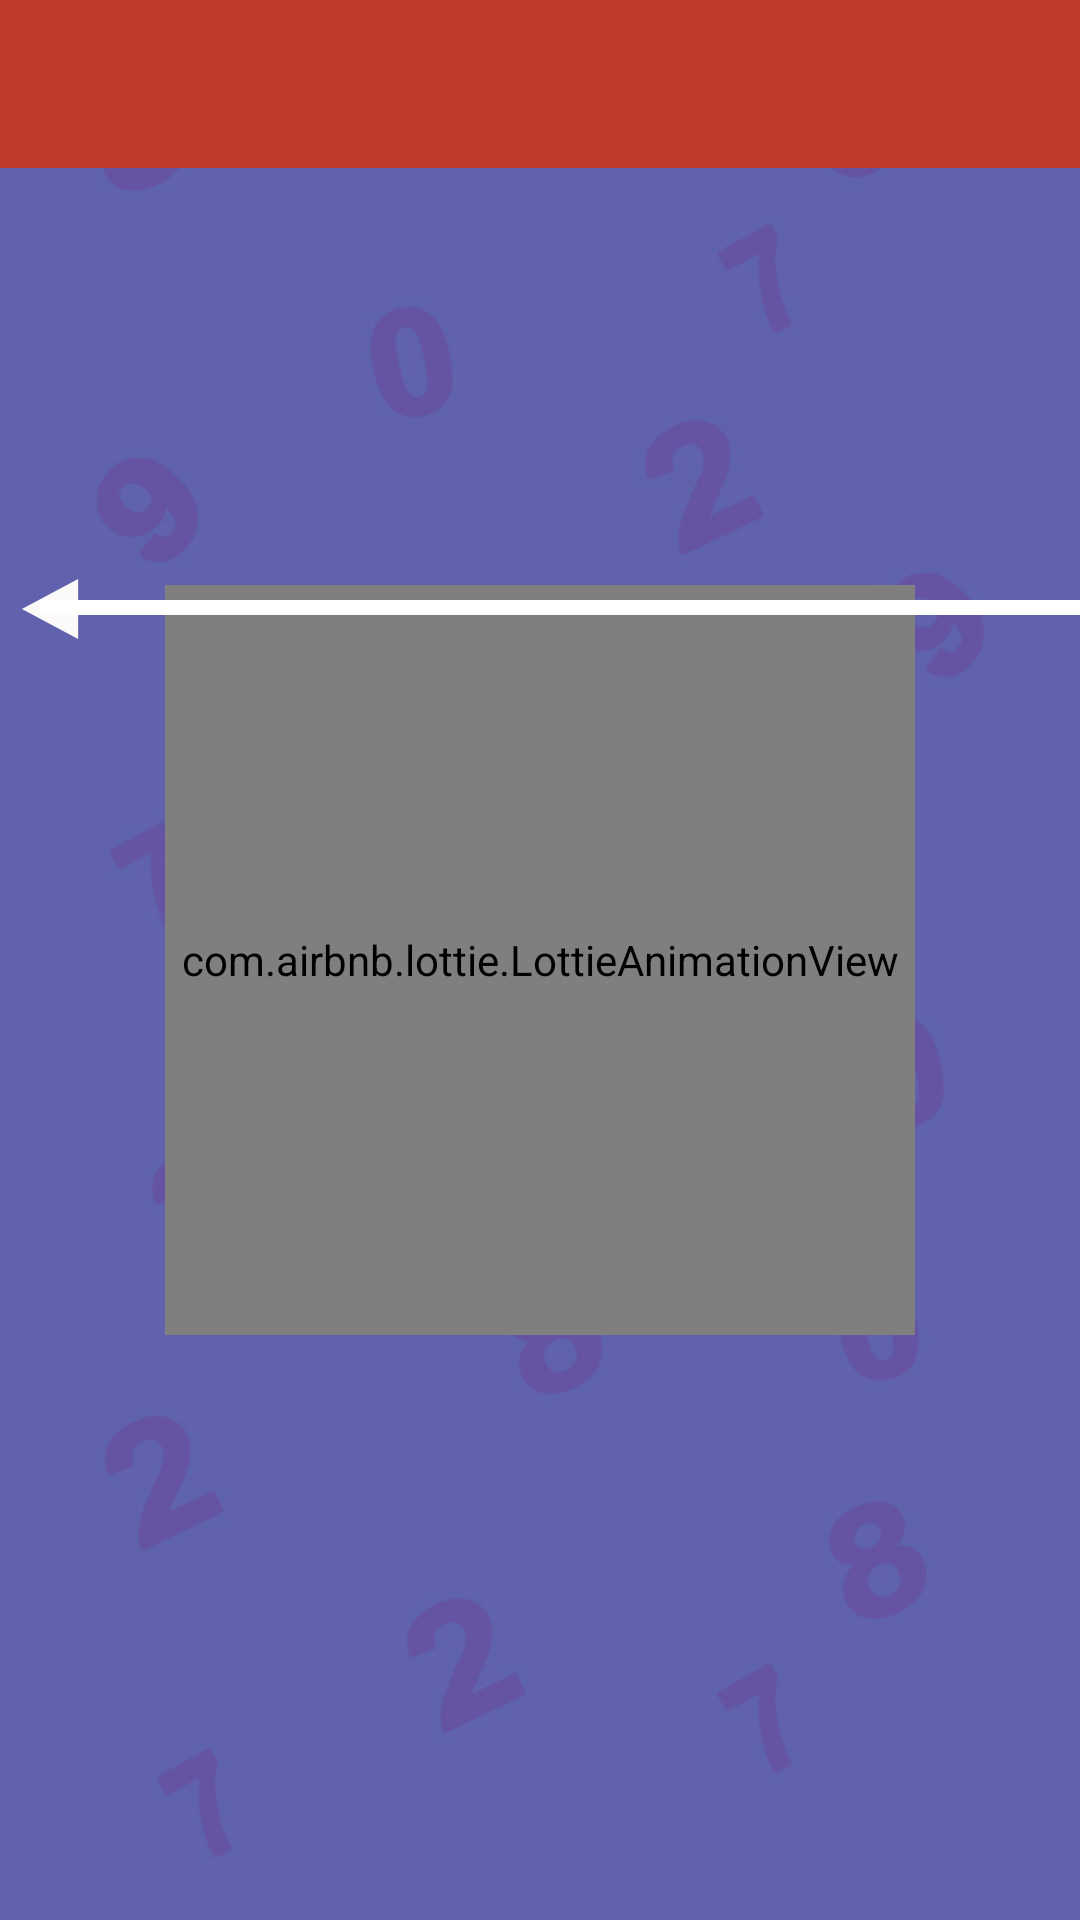

Icons on this 1080w x 1920h Android screen, each with the point to tap as point (x, y):
left arrow: point (60, 609)
